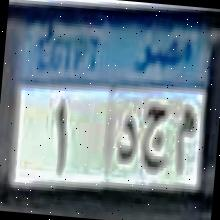1: (50, 96, 73, 178)
daal: (115, 112, 140, 170)
jeem: (138, 100, 172, 178)
meem: (170, 101, 199, 179)
